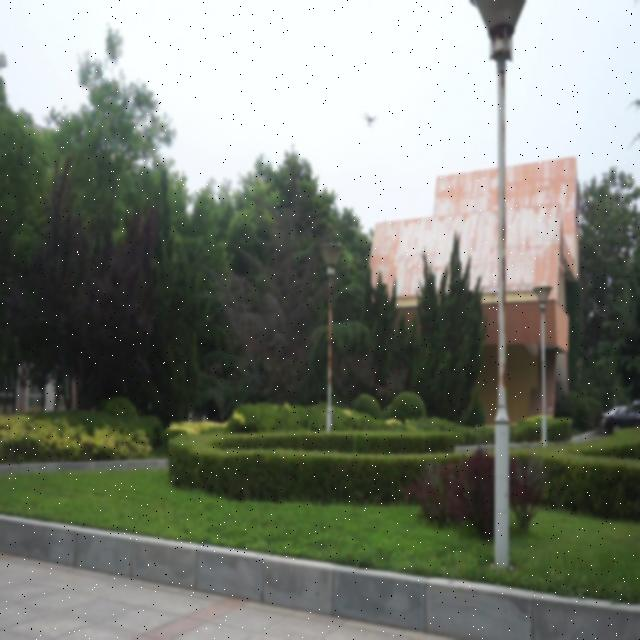UAV: (361, 112, 379, 129)
